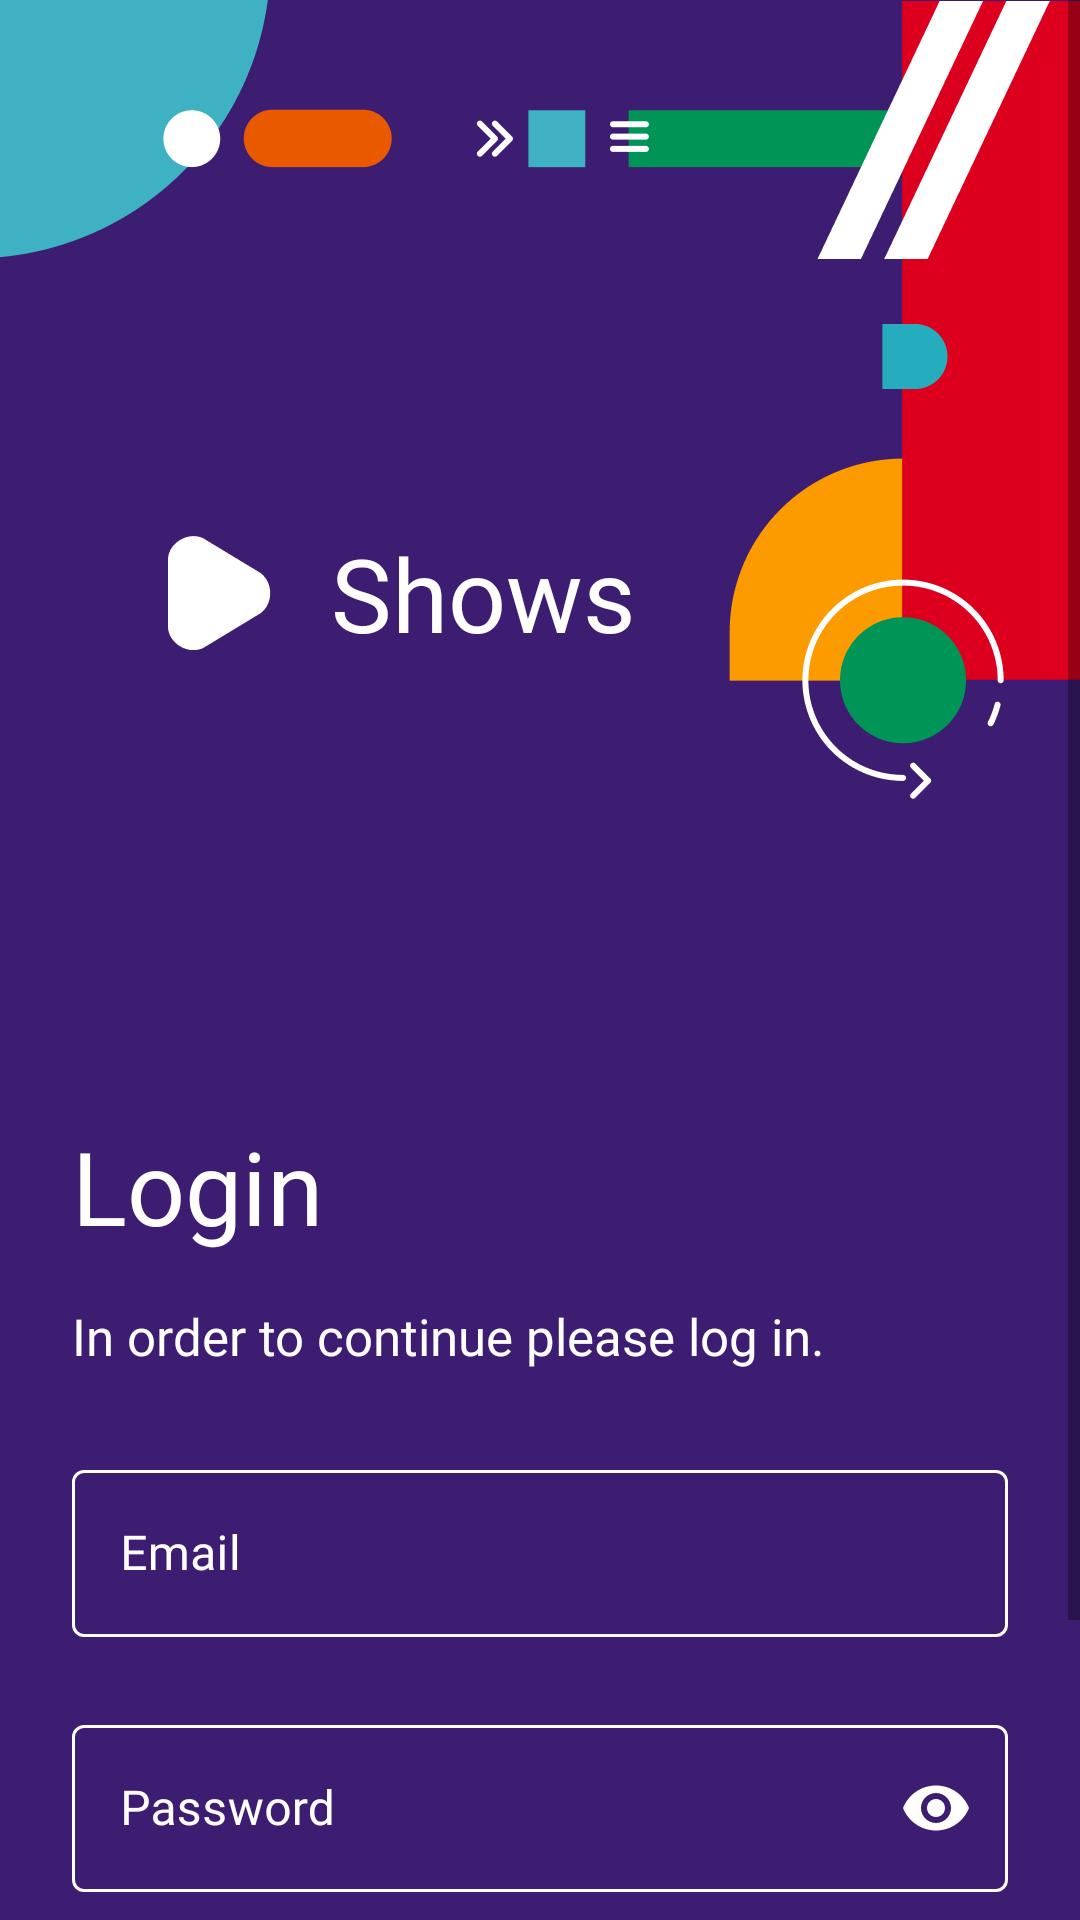

Where to tap for icons on this 1080w x 1920h app screen, as (x=x, y=y):
triangle: (x=219, y=593)
